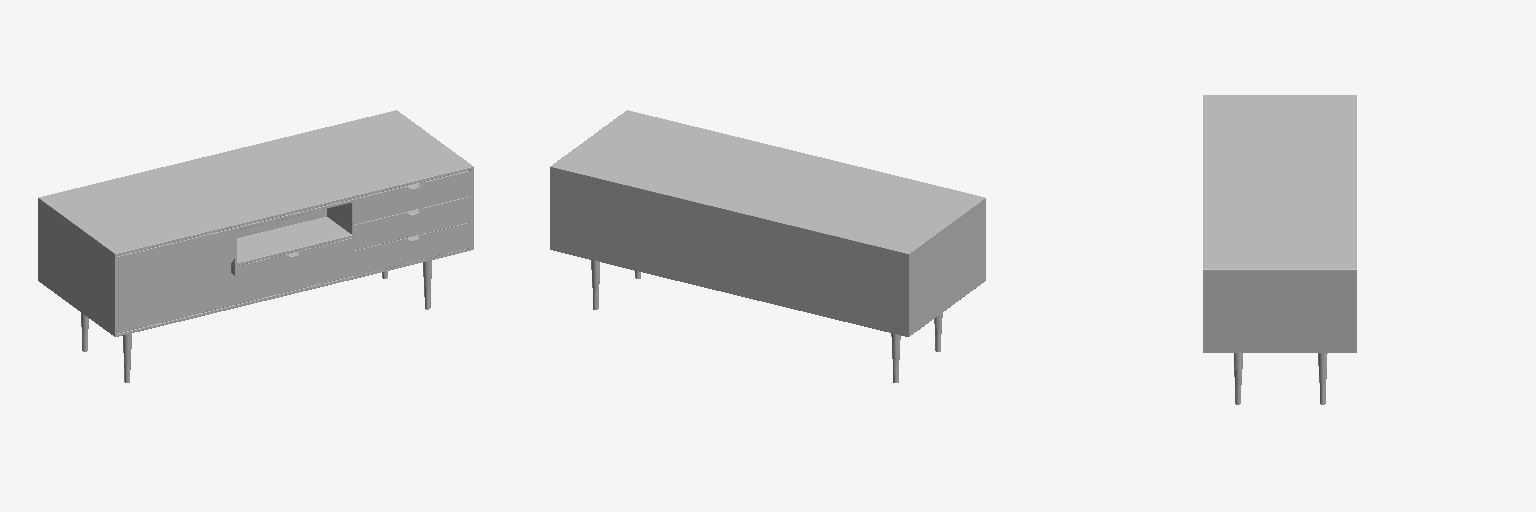
The model's file is Sideboard.obj.
3 views of the same model, side by side, from view 1: azimuth 30°, elevation 25°; view 2: azimuth 150°, elevation 25°; view 3: azimuth 270°, elevation 25° (orthographic).
Visible parts, largest first — view 1: Cylinder, Cylinder.004_Cylinder.001, Cylinder.006_Cylinder.003, Cylinder.007_Cylinder.005, Cylinder.005_Cylinder.002; view 2: Cylinder; view 3: Cylinder.
Part boxes in pixels (x1,y1,x2,y2): Cylinder: (38,110,473,382); Cylinder.004_Cylinder.001: (231,238,354,304); Cylinder.006_Cylinder.003: (355,171,470,223); Cylinder.007_Cylinder.005: (355,196,470,249); Cylinder.005_Cylinder.002: (355,223,470,275); Cylinder: (550,110,985,382); Cylinder: (1203,95,1356,404).
Bounding box in the file's own units: 5.83 × 2.3 × 2.17.